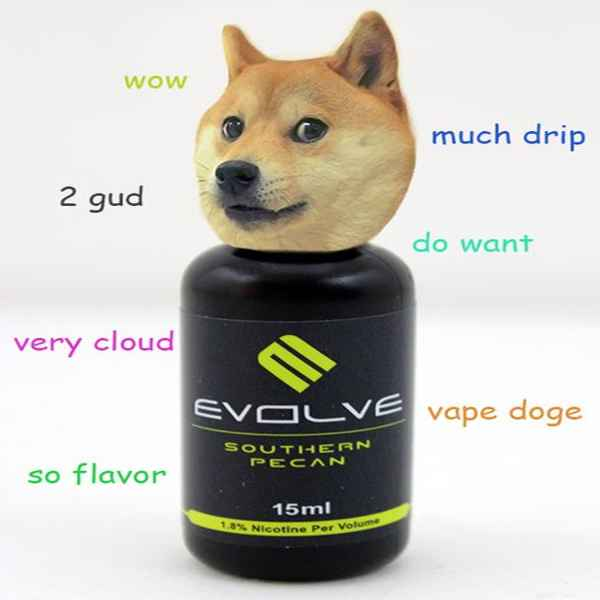doge: (178, 39, 413, 250)
